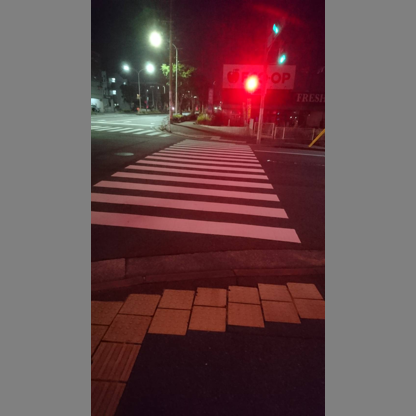brailleblock: (92, 277, 324, 351)
crosswalk: (93, 138, 304, 252)
